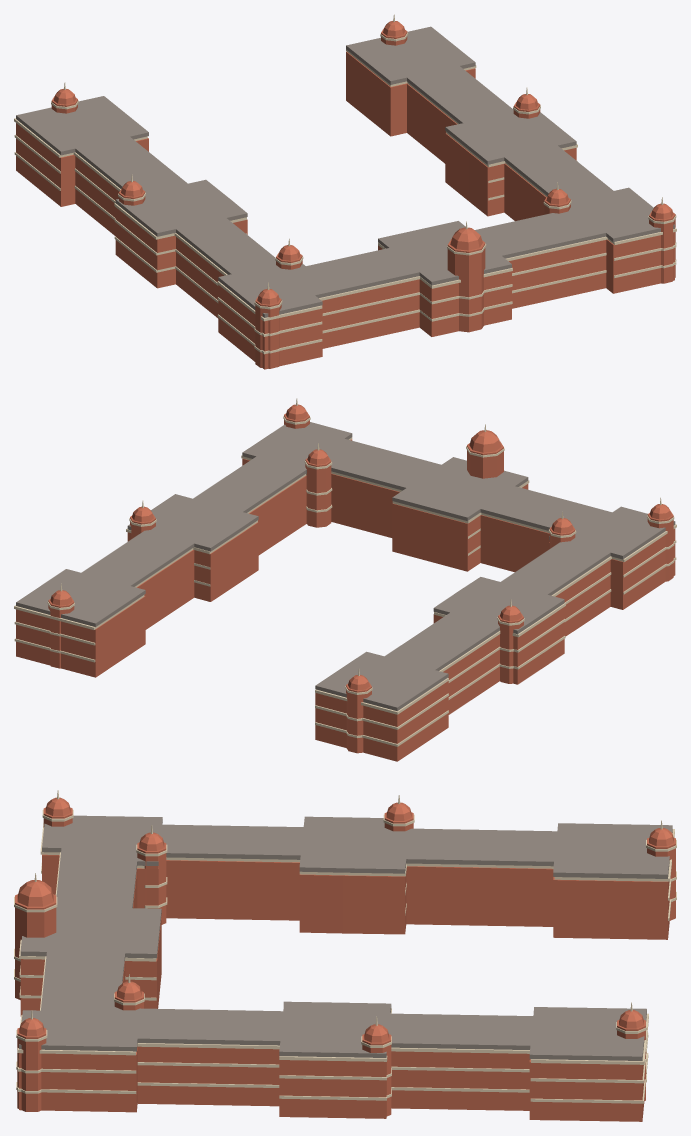
The model's file is secretariat.glb.
The picture shows the model from 3 angles, top to bottom: view 1: azimuth 30°, elevation 25°; view 2: azimuth 150°, elevation 25°; view 3: azimuth 270°, elevation 25°; orthographic projection. The views are drawn at different scales.
Visible parts, largest first — view 1: part; view 2: part; view 3: part.
Boxes of the visible parts, x1,y1,x2,y2 form: part: (14, 14, 676, 369); part: (14, 398, 676, 761); part: (14, 790, 676, 1121).
Size of the model in its own units: 154 by 35.69 by 177.
